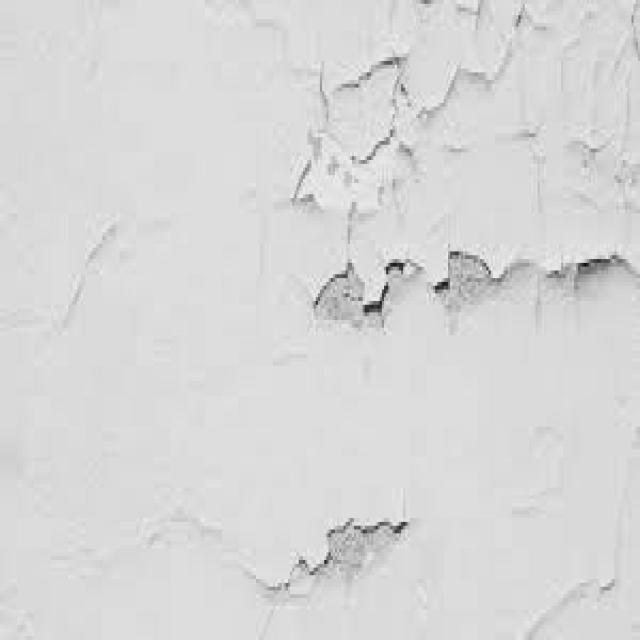peeling paint: (214, 0, 640, 378), (123, 407, 640, 640), (0, 202, 143, 363)
